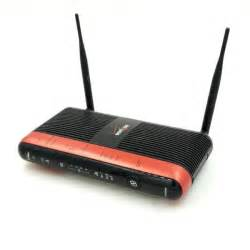Verizon Router: (7, 7, 250, 229)
